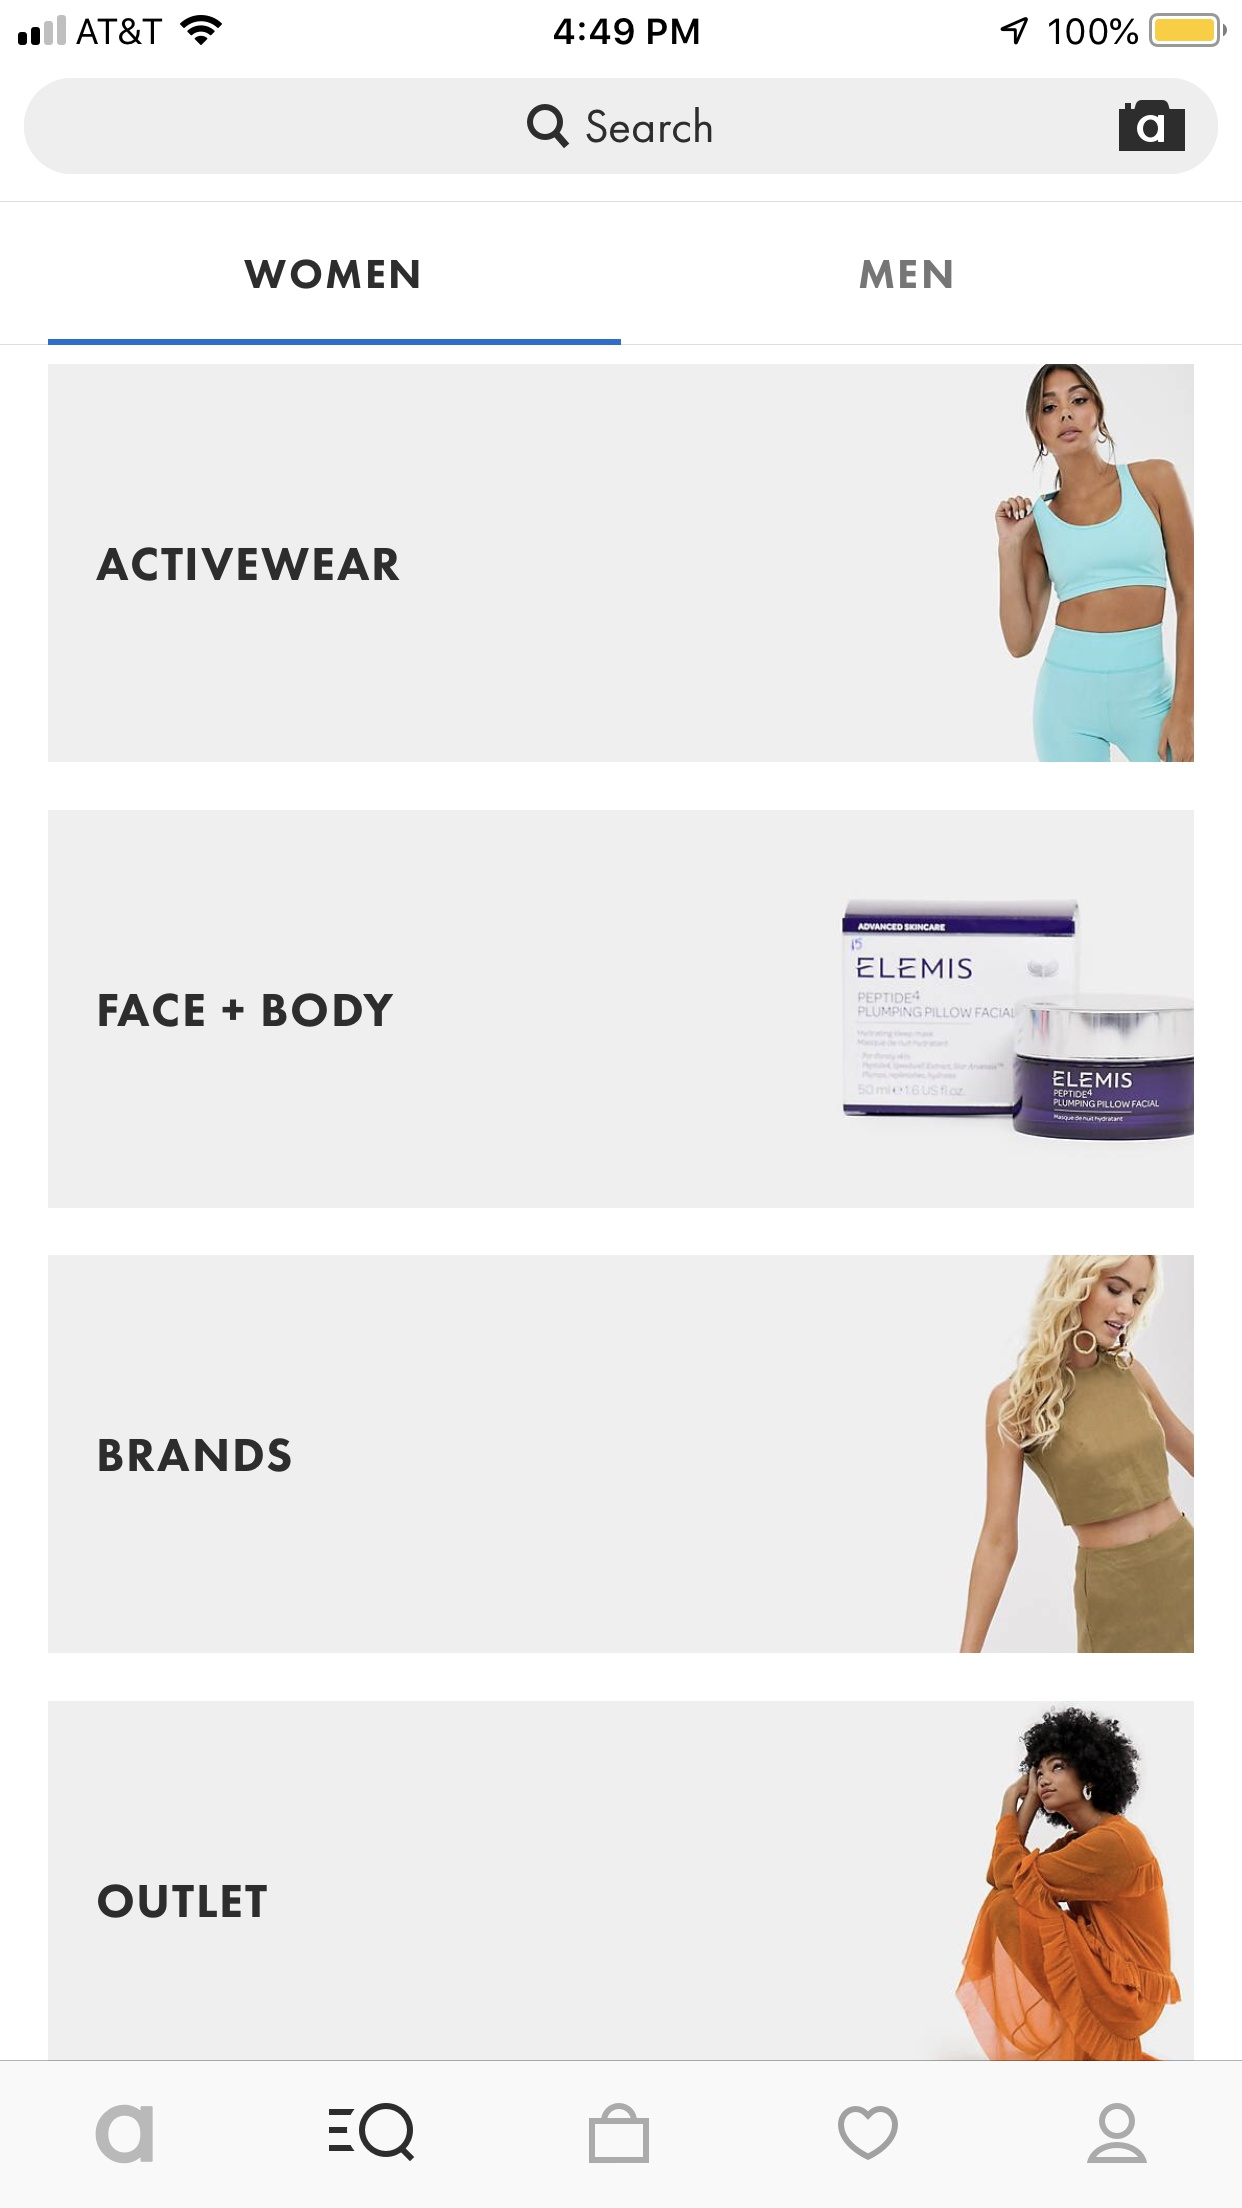EditText: (24, 77, 1218, 174)
Icon: (329, 2102, 416, 2163), (588, 2103, 651, 2164), (1087, 2102, 1148, 2164), (837, 2105, 899, 2161), (528, 105, 570, 149)
Image: (957, 1256, 1193, 1653), (842, 898, 1195, 1143), (952, 1701, 1183, 2061), (993, 364, 1193, 763), (1119, 102, 1186, 153)
Text: (96, 546, 400, 582), (99, 993, 394, 1028), (99, 1438, 293, 1473), (99, 1883, 268, 1918), (244, 259, 420, 291), (585, 108, 713, 144), (96, 2103, 155, 2164), (860, 259, 952, 290)
UpperTaskBar: (2, 2, 1242, 49)
